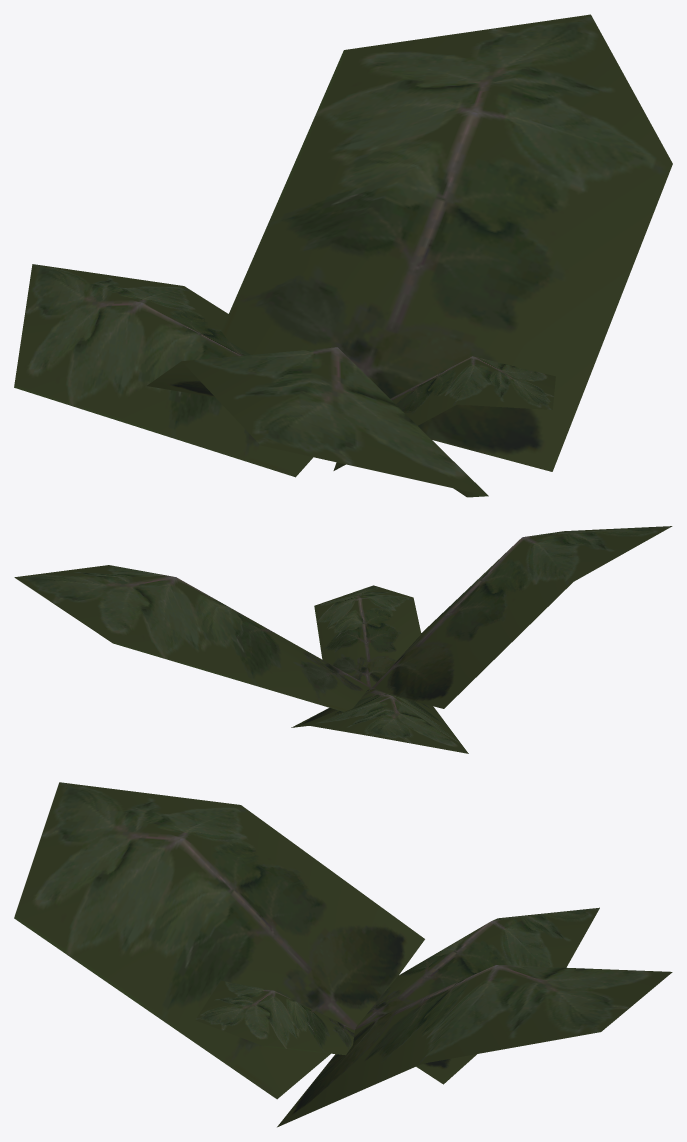
The model's file is prop_saplin_001_c.FBX.
3 renders of one model, top to bottom at view 1: azimuth 30°, elevation 25°; view 2: azimuth 150°, elevation 25°; view 3: azimuth 270°, elevation 25°, orthographic. The views are drawn at different scales.
Visible parts, largest first — view 1: prop_saplin_001_c; view 2: prop_saplin_001_c; view 3: prop_saplin_001_c.
Part boxes in pixels (x1=…): prop_saplin_001_c: x1=14, y1=14, x2=672, y2=497; prop_saplin_001_c: x1=14, y1=526, x2=672, y2=753; prop_saplin_001_c: x1=14, y1=782, x2=672, y2=1127.
Size of the model in its own units: 1.25 by 1.36 by 0.4395.
Materials: 1 (1 with a texture image).
